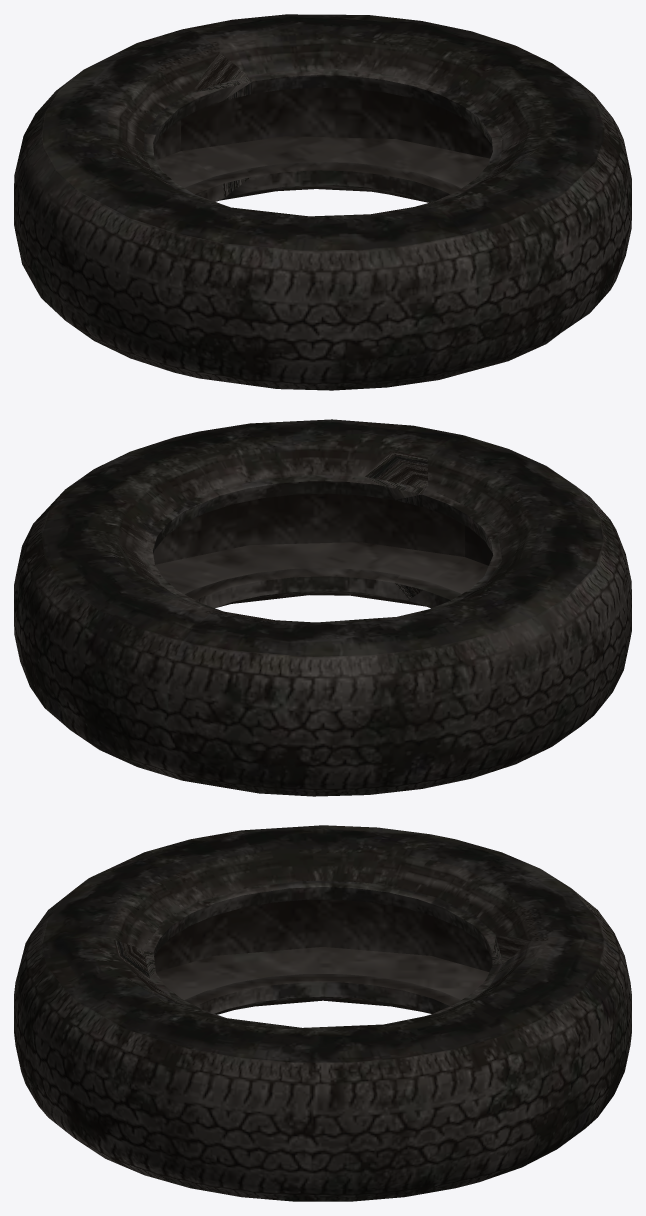
File: old_tyre.glb
The picture shows the model from 3 angles, top to bottom: view 1: azimuth 30°, elevation 25°; view 2: azimuth 150°, elevation 25°; view 3: azimuth 270°, elevation 25°; orthographic projection.
Parts seen in each view (by area): view 1: old_tyre; view 2: old_tyre; view 3: old_tyre.
Boxes of the visible parts, x1,y1,x2,y2 form: old_tyre: [14, 14, 631, 390]; old_tyre: [14, 419, 631, 796]; old_tyre: [14, 825, 631, 1201].
Size of the model in its own units: 0.6 by 0.165 by 0.6.
Materials: 1 (1 with a texture image).
